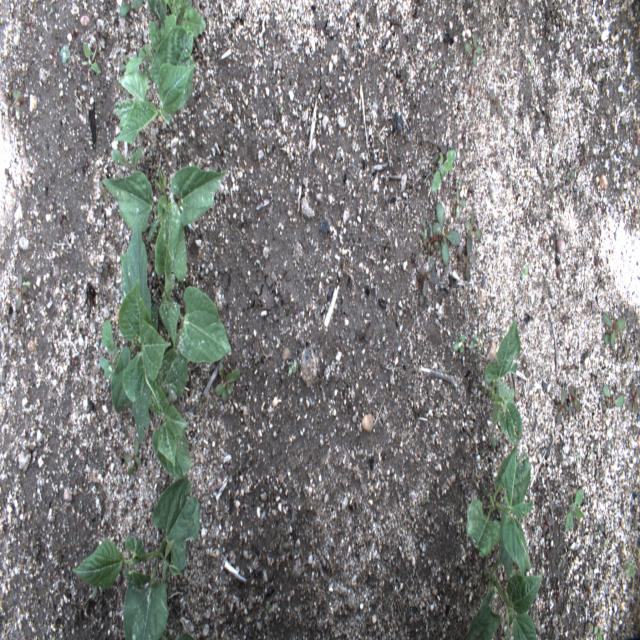crop: (101, 205, 234, 481), (69, 478, 201, 637), (110, 3, 207, 146), (100, 154, 228, 226), (462, 448, 533, 574), (458, 572, 544, 637), (482, 320, 524, 447)
weed: (417, 199, 462, 271), (596, 308, 634, 371), (554, 137, 594, 190), (458, 208, 484, 284), (427, 141, 459, 194), (459, 22, 490, 76), (556, 382, 588, 432), (413, 254, 442, 306), (562, 484, 586, 538), (599, 374, 630, 412), (213, 364, 243, 403), (484, 80, 512, 121), (9, 265, 32, 314), (122, 434, 145, 480), (79, 36, 104, 78), (452, 178, 472, 230), (453, 327, 484, 360), (105, 143, 145, 165), (6, 82, 24, 120), (584, 613, 610, 637), (540, 504, 557, 539), (55, 37, 73, 70), (116, 1, 146, 20), (283, 352, 299, 382), (624, 550, 638, 584), (80, 151, 93, 187), (627, 378, 638, 420), (23, 11, 40, 34), (22, 434, 34, 464), (427, 50, 440, 76), (519, 258, 531, 284), (524, 51, 535, 78)
